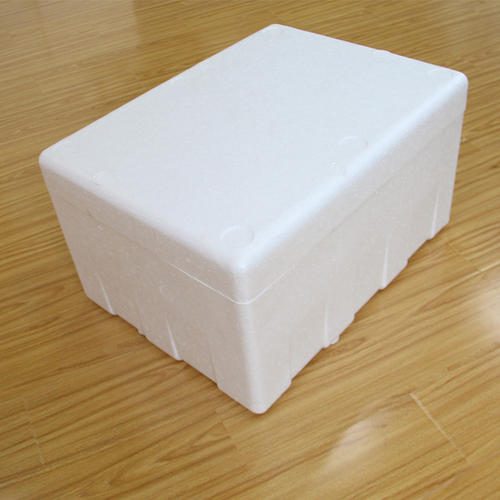Foam Box: (32, 18, 474, 418)
